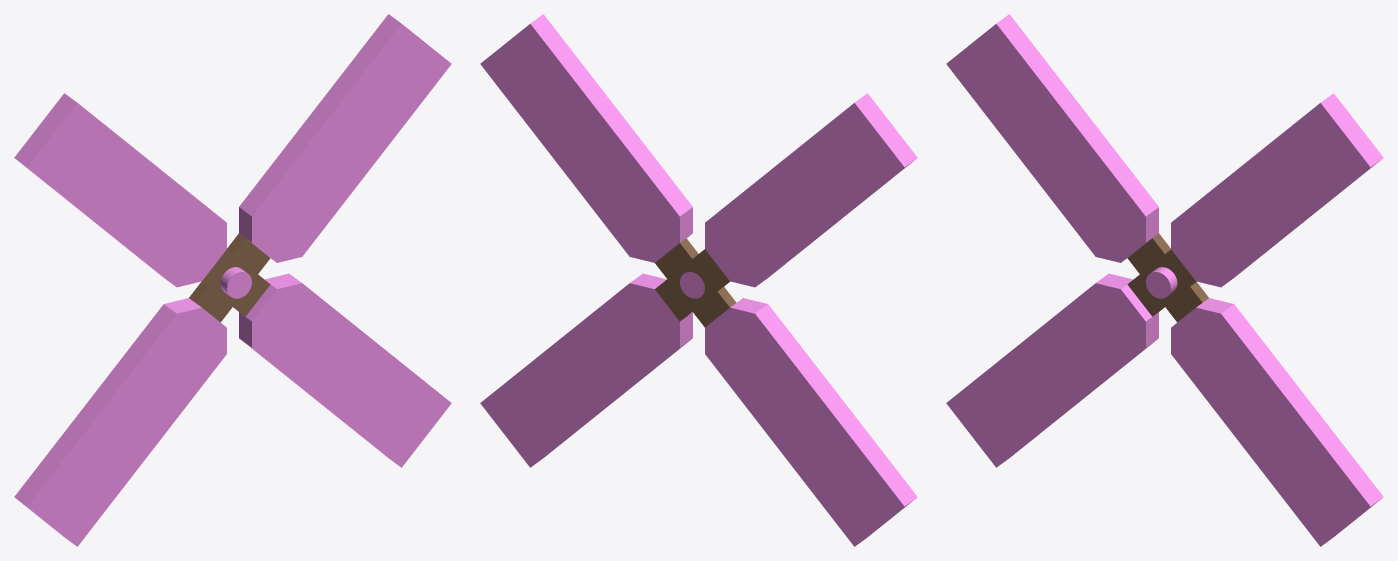
The model's file is fan.glb.
The picture shows the model from 3 angles, left to right: view 1: azimuth 30°, elevation 25°; view 2: azimuth 150°, elevation 25°; view 3: azimuth 330°, elevation 25°; orthographic projection.
Parts seen in each view (by area): view 1: fan; view 2: fan; view 3: fan.
Boxes of the visible parts, x1,y1,x2,y2 form: fan: (14,14,451,546); fan: (480,14,917,546); fan: (946,14,1383,546).
Bounding box in the file's own units: 12.4 × 12.4 × 0.6666.
